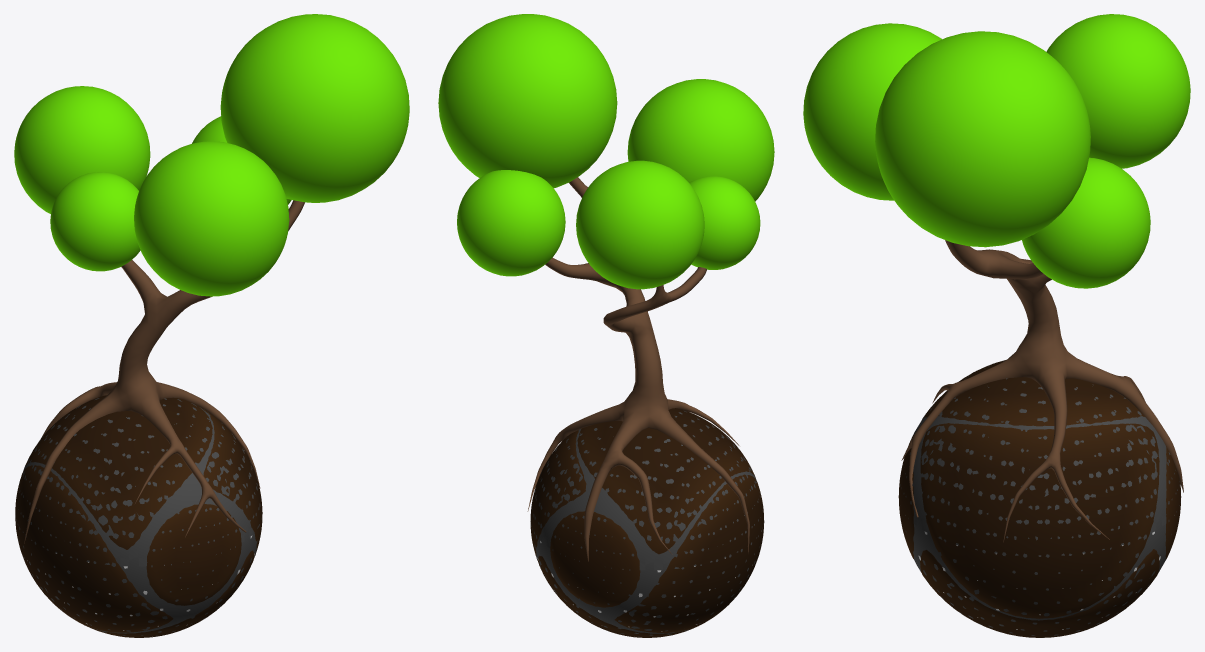
File: projectMelon.fbx
The picture shows the model from 3 angles, left to right: view 1: azimuth 30°, elevation 25°; view 2: azimuth 150°, elevation 25°; view 3: azimuth 270°, elevation 25°; orthographic projection. The views are drawn at different scales.
Parts seen in each view (by area): view 1: melonTree, melonPlayerRolling, melonRock; view 2: melonTree, melonPlayerRolling, melonRock; view 3: melonTree, melonPlayerRolling, melonRock.
Boxes of the visible parts, box(x1,y1,x2,y2) form: melonTree: box(14, 14, 409, 636); melonPlayerRolling: box(15, 395, 262, 637); melonRock: box(15, 398, 261, 566); melonTree: box(438, 14, 774, 637); melonPlayerRolling: box(530, 408, 764, 637); melonRock: box(531, 411, 763, 570); melonTree: box(803, 14, 1190, 637); melonPlayerRolling: box(898, 360, 1181, 637); melonRock: box(900, 366, 1179, 556).
Bounding box in the file's own units: 321 × 522 × 274.
